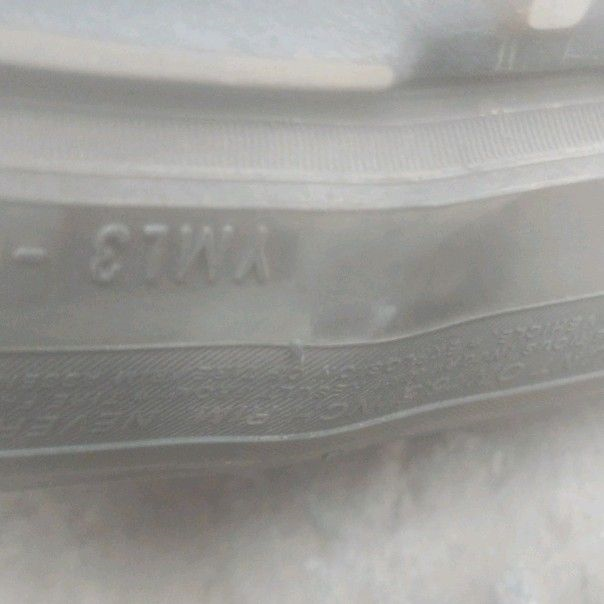CBU: (174, 280, 426, 482)
